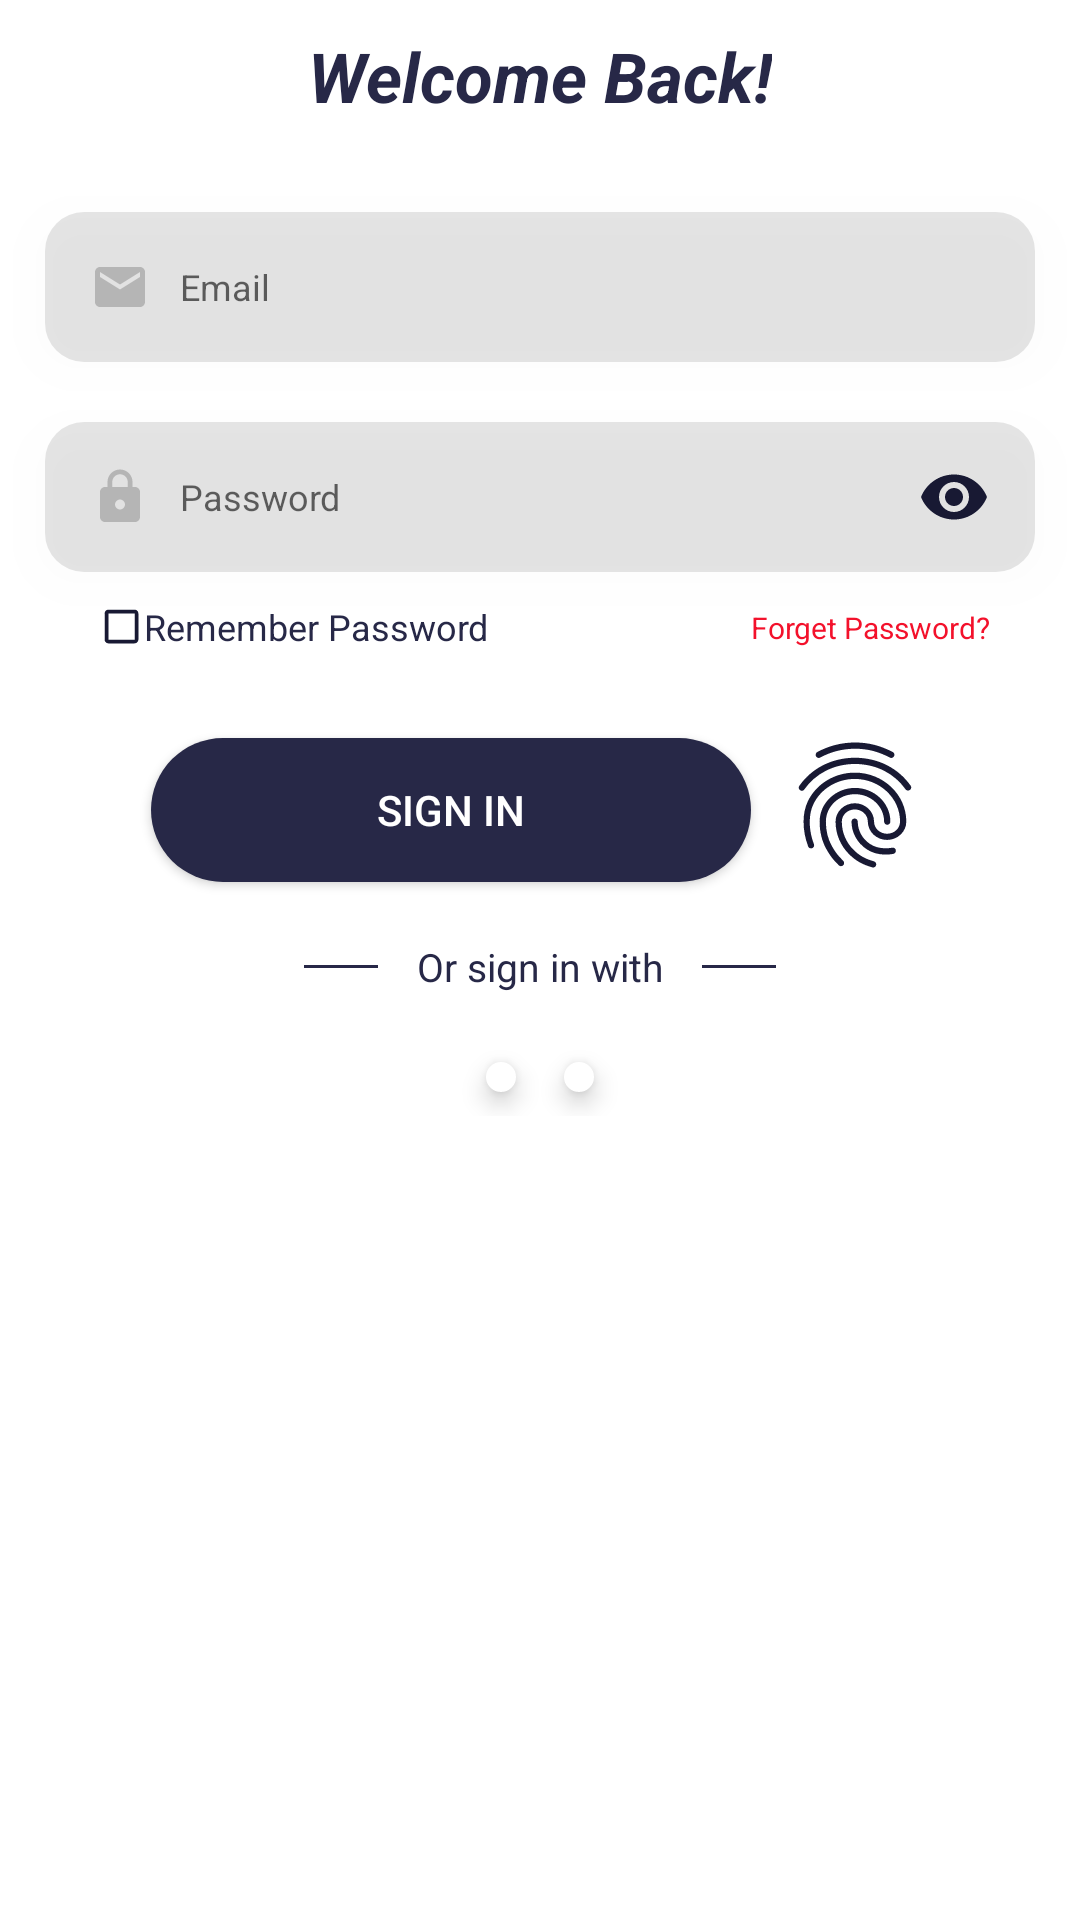

Where icons sit on this 1080×1920 app screen, as (x1, y1, x2, y2):
fingerprint: (798, 742, 912, 868)
